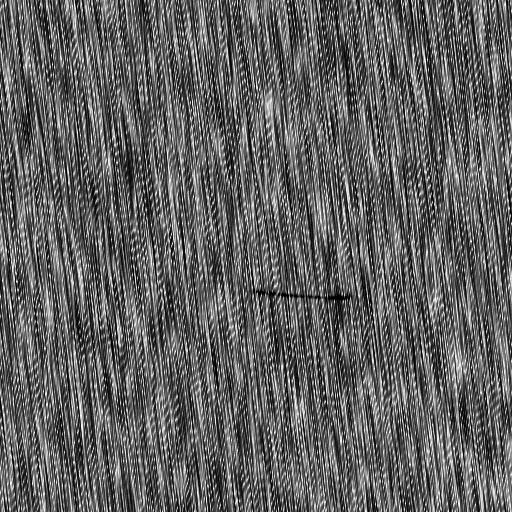DefectTypeC: (248, 285, 362, 304)
